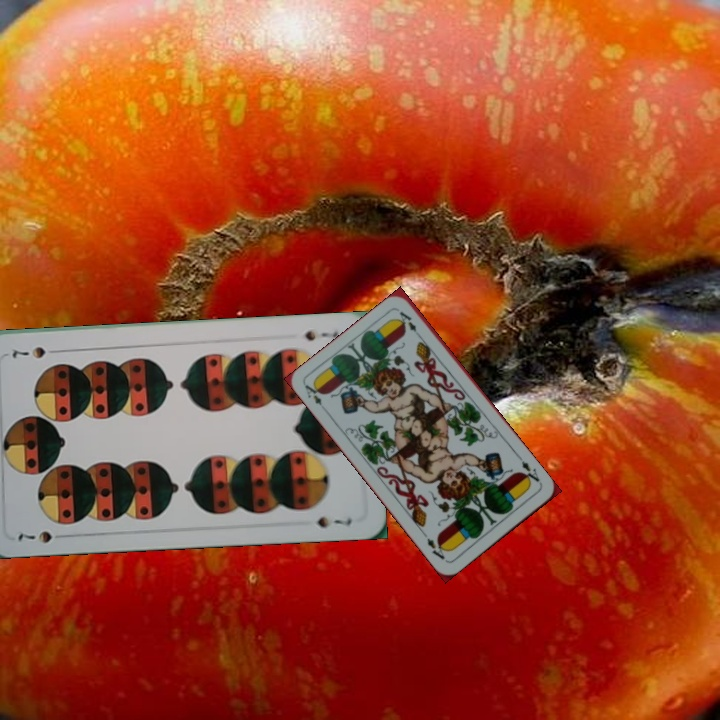EA: (514, 452, 542, 487), (301, 379, 325, 408)
S7: (14, 527, 71, 546), (300, 327, 341, 344)
